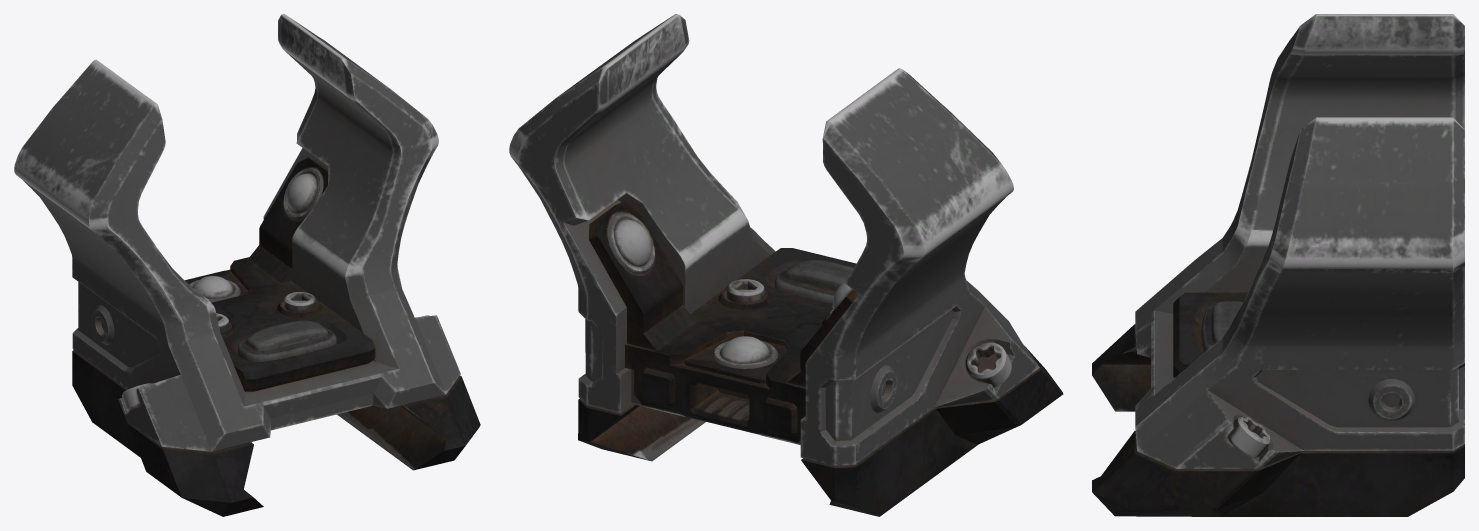
Rendered from IronSights_9_B.glb.
3 renders of one model, left to right at view 1: azimuth 30°, elevation 25°; view 2: azimuth 150°, elevation 25°; view 3: azimuth 270°, elevation 25°, orthographic. The views are drawn at different scales.
Parts seen in each view (by area): view 1: IronSights_9_B; view 2: IronSights_9_B; view 3: IronSights_9_B.
Boxes of the visible parts, x1,y1,x2,y2 form: IronSights_9_B: (14, 14, 480, 516); IronSights_9_B: (509, 14, 1063, 516); IronSights_9_B: (1092, 14, 1464, 516).
Bounding box in the file's own units: 0.0374 × 0.035 × 0.0306.
1 material, 1 textured.
